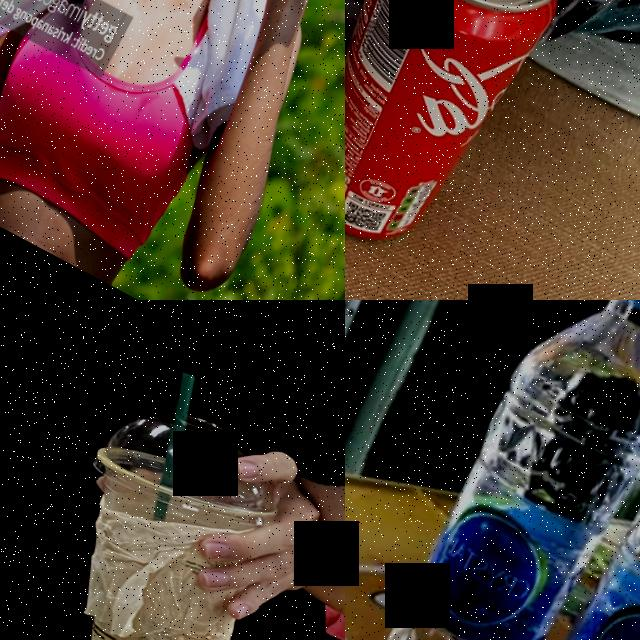bottle: (345, 300, 640, 640), (444, 320, 640, 640)
can: (345, 0, 595, 276)
cup: (2, 380, 327, 640)
